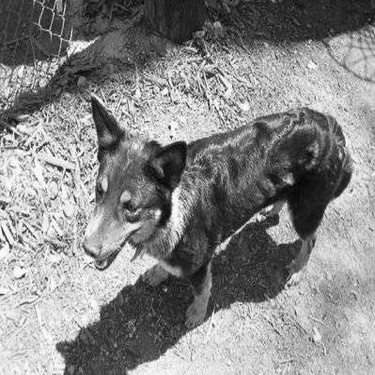dog: (78, 81, 358, 336)
